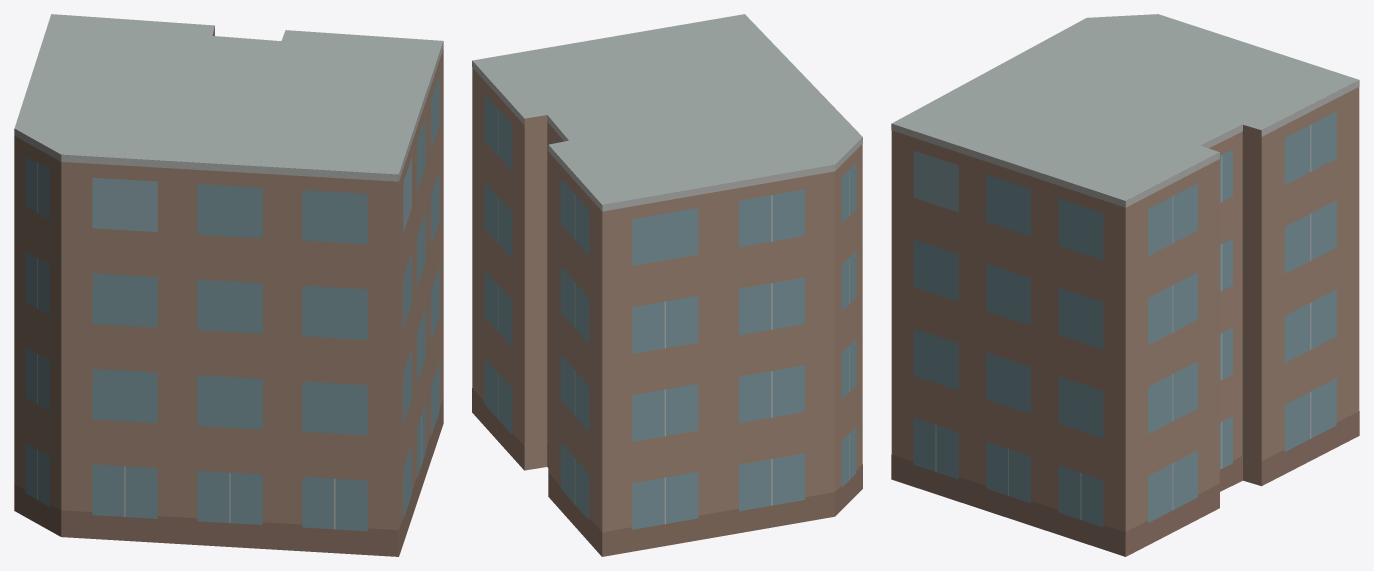
Rendered from survey-upis-32801258.glb.
The picture shows the model from 3 angles, left to right: view 1: azimuth 30°, elevation 25°; view 2: azimuth 150°, elevation 25°; view 3: azimuth 270°, elevation 25°; orthographic projection. The views are drawn at different scales.
Parts seen in each view (by area): view 1: survey-upis-32801258.tmp; view 2: survey-upis-32801258.tmp; view 3: survey-upis-32801258.tmp.
Boxes of the visible parts, box(x1,y1,x2,y2) form: survey-upis-32801258.tmp: box(14, 14, 443, 556); survey-upis-32801258.tmp: box(472, 14, 862, 556); survey-upis-32801258.tmp: box(891, 14, 1359, 556).
Bounding box in the file's own units: 14.54 × 12.9 × 15.38.
